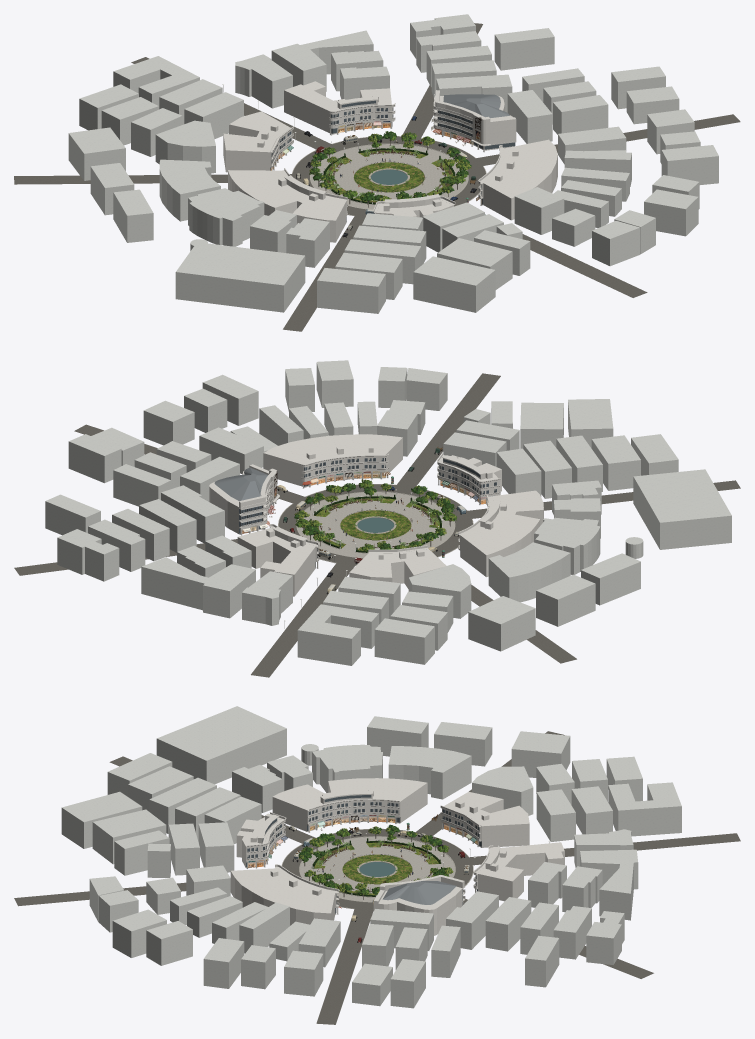
File: kikar.glb
3 renders of one model, top to bottom at view 1: azimuth 30°, elevation 25°; view 2: azimuth 150°, elevation 25°; view 3: azimuth 270°, elevation 25°, orthographic.
Visible parts, largest first — view 1: osm_370256542, E_block, C_block, A_block, B_block, osm_149278321, osm_88500781, promenade, F_block, osm_149197753, osm_149278377, osm_88500776 (+59 smaller); view 2: osm_370256542, C_block, E_block, osm_149197753, promenade, osm_88500776, B_block, A_block, osm_87534968, osm_87531968, osm_88500781, F_block (+61 smaller); view 3: osm_370256542, E_block, C_block, F_block, osm_88500776, A_block, promenade, B_block, osm_149197753, osm_88500781, street_Zamenhof, osm_149278321 (+59 smaller).
Part boxes in pixels (bbox=[...]): osm_370256542: bbox=[175, 242, 305, 312]; E_block: bbox=[228, 168, 347, 242]; C_block: bbox=[478, 139, 557, 220]; A_block: bbox=[284, 81, 395, 134]; B_block: bbox=[433, 90, 516, 151]; osm_149278321: bbox=[413, 256, 495, 312]; osm_88500781: bbox=[188, 188, 264, 246]; promenade: bbox=[310, 144, 467, 209]; F_block: bbox=[223, 111, 293, 172]; osm_149197753: bbox=[271, 30, 373, 91]; osm_149278377: bbox=[317, 268, 385, 313]; osm_88500776: bbox=[159, 159, 220, 221]; osm_370256542: bbox=[633, 469, 731, 549]; C_block: bbox=[263, 434, 402, 488]; E_block: bbox=[458, 490, 543, 577]; osm_149197753: bbox=[141, 557, 255, 618]; promenade: bbox=[297, 492, 454, 557]; osm_88500776: bbox=[488, 542, 570, 602]; B_block: bbox=[209, 464, 279, 535]; A_block: bbox=[237, 524, 319, 596]; osm_87534968: bbox=[468, 596, 535, 651]; osm_87531968: bbox=[297, 612, 360, 665]; osm_88500781: bbox=[534, 517, 600, 574]; F_block: bbox=[349, 545, 446, 588]; osm_370256542: bbox=[156, 706, 286, 784]; E_block: bbox=[272, 778, 427, 832]; C_block: bbox=[230, 864, 339, 925]; F_block: bbox=[440, 792, 529, 847]; osm_88500776: bbox=[388, 746, 471, 799]; A_block: bbox=[473, 842, 564, 901]; promenade: bbox=[300, 836, 454, 901]; B_block: bbox=[373, 875, 465, 935]; osm_149197753: bbox=[580, 849, 638, 920]; osm_88500781: bbox=[312, 744, 382, 792]; street_Zamenhof: bbox=[316, 909, 373, 1024]; osm_149278321: bbox=[61, 791, 142, 848].
Size of what is drawn, in the model's own units: 320 by 18.3 by 334.
Materials: 79 (42 with a texture image).
